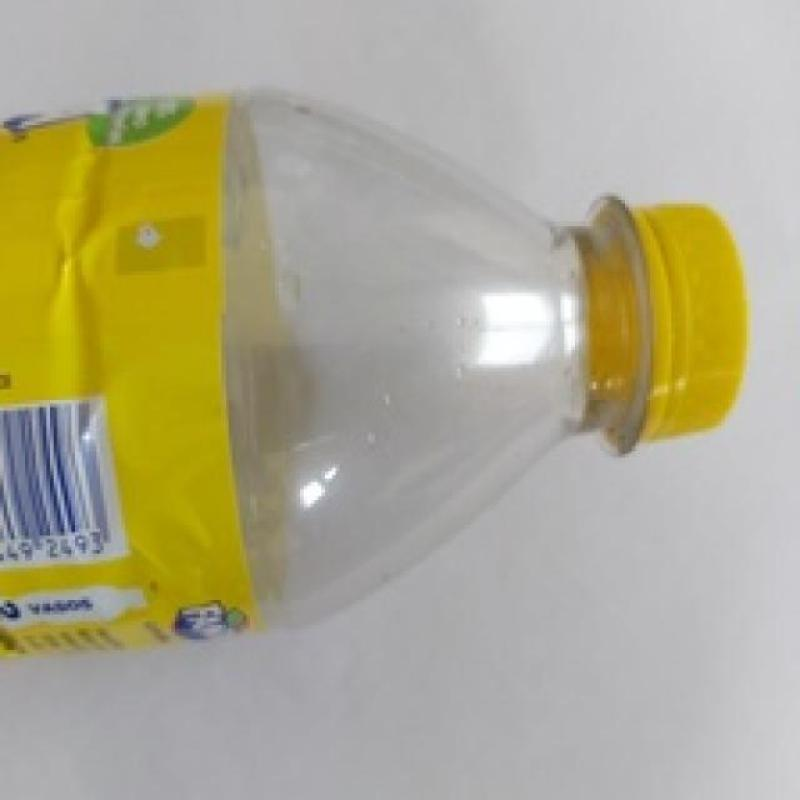botella: (2, 90, 750, 661)
